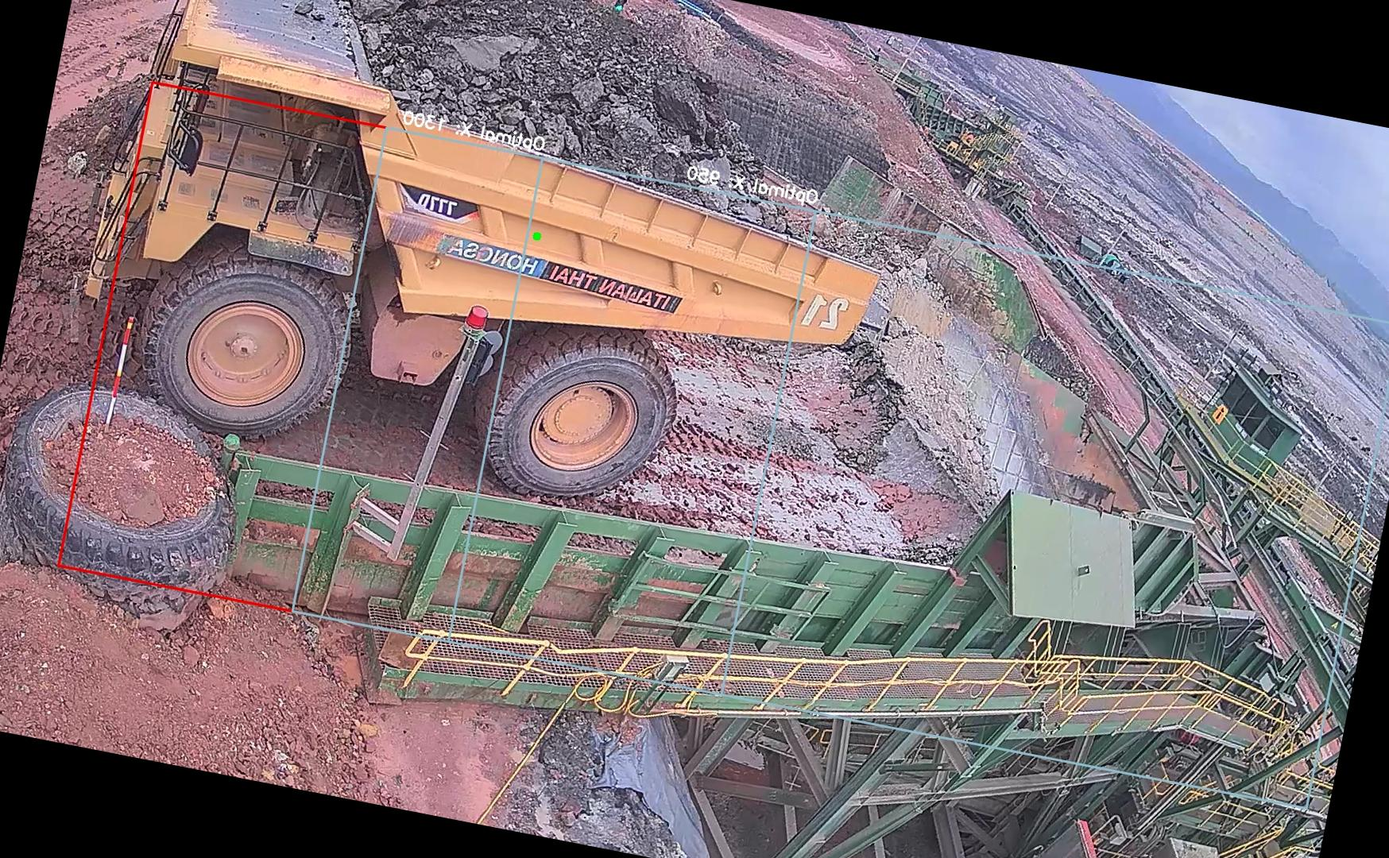company: (411, 220, 702, 323)
full_load: (374, 0, 767, 210)
mining_truck: (43, 0, 932, 544)
tail_number: (794, 282, 858, 341)
truck_size: (402, 177, 476, 226)
